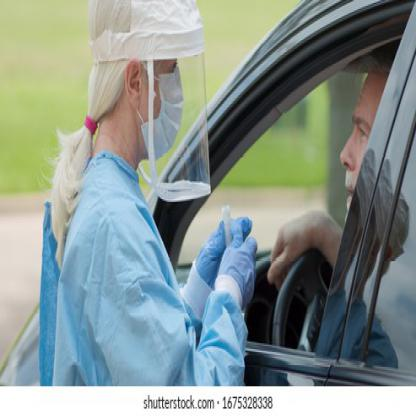glove: (196, 217, 254, 288), (218, 236, 257, 312)
